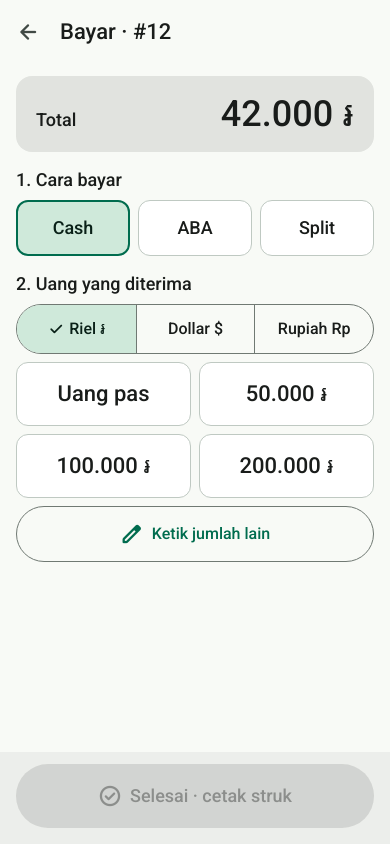
Test: Bayar – kembalian tunai › alur lengkap: kirim pembayaran cash lalu tampil kembalian & struk
Expected: the text with test id "pay-total" reads "42.000 ៛", [221,93,354,135]
Expected: the button "Selesai · cetak struk" is disabled, [16,764,374,828]
Click the button "50.000 ៛" at [286, 394], box [199,362,374,426]
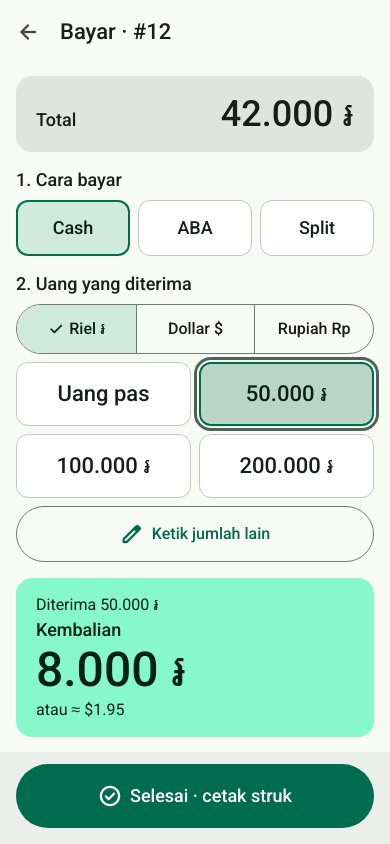
Click the button "Selesai · cetak struk" at [195, 796], box [16,764,374,828]
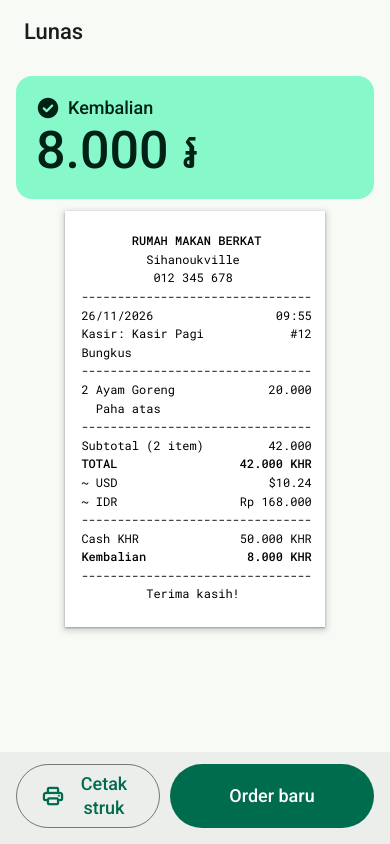
Now the text with test id "done-change" reads "8.000 ៛", box [36,120,199,181]
